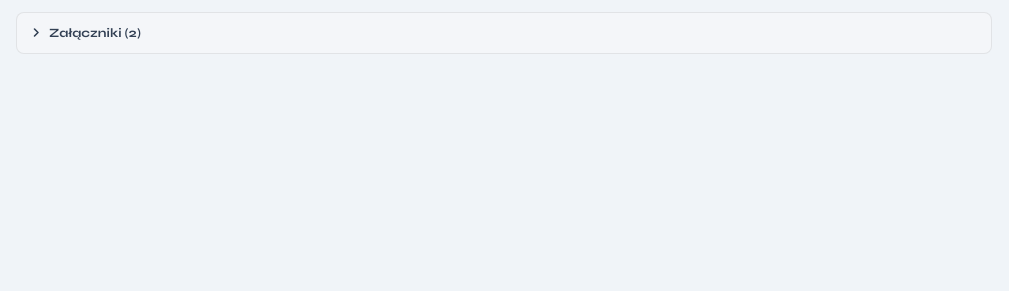
Scenario: AttachmentsSection › lists video and file attachments with view/download links
What coordinates should you click on to do the following:
click the button with class "att-head"
I would click on:
 (89, 32)
Its box is left=17, top=13, right=991, bottom=53.
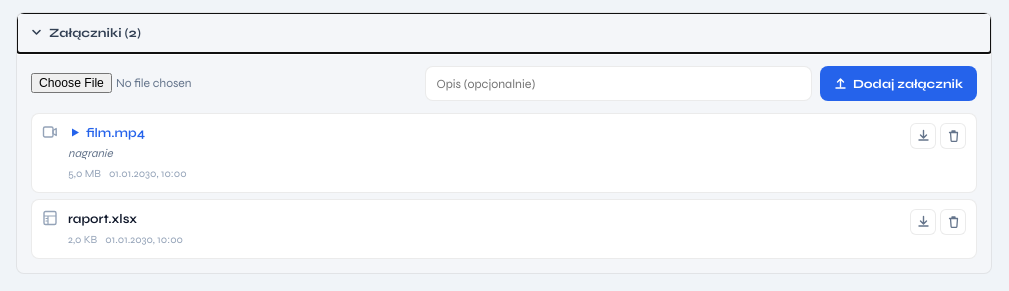
expect the link titled "film.mp4" is shown: met, box left=68, top=125, right=145, bottom=141
expect the link to "/api/attachments/2/download" is shown: met, box left=68, top=211, right=137, bottom=227
